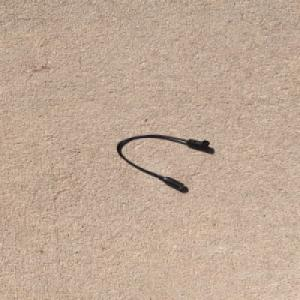Wire: (112, 132, 211, 191)
